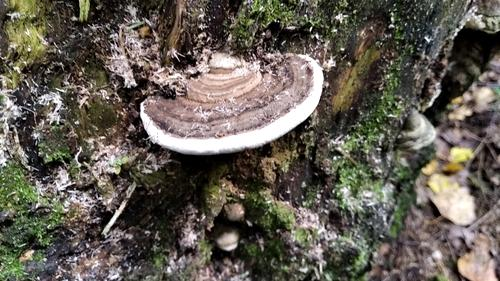Ganoderma - Fruit Body: (139, 52, 325, 156)
